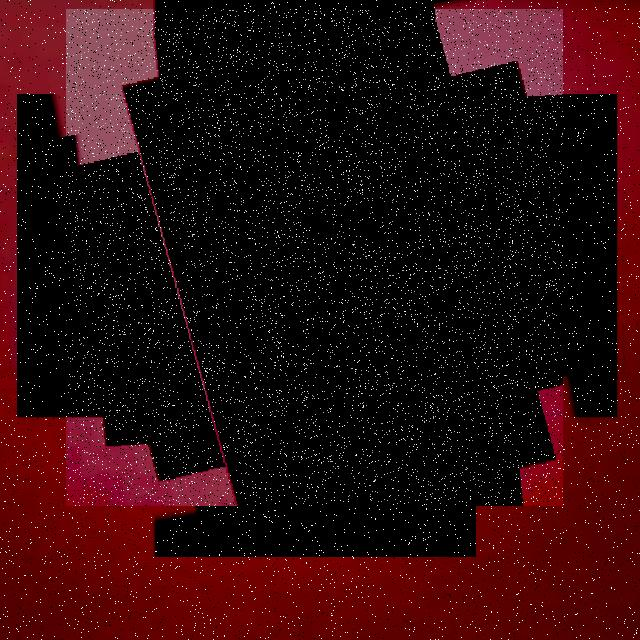lima puluh ribu rupiah: (66, 9, 563, 506)
